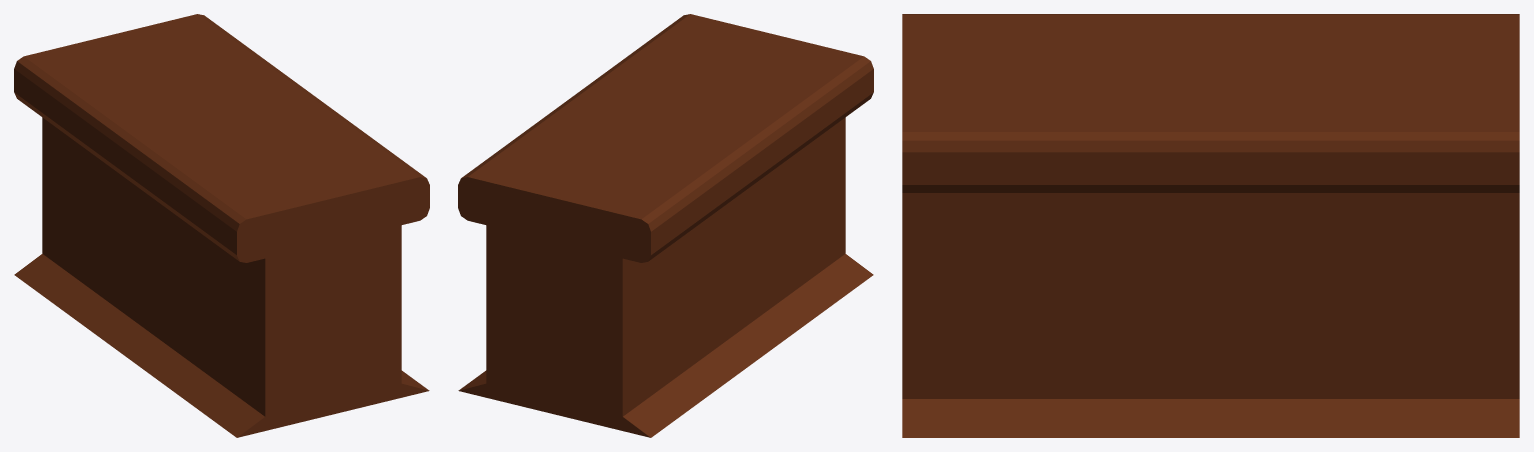
File: barr4.fbx
3 views of the same model, side by side, from view 1: azimuth 30°, elevation 25°; view 2: azimuth 150°, elevation 25°; view 3: azimuth 270°, elevation 25° (orthographic). The views are drawn at different scales.
Parts seen in each view (by area): view 1: Cube.010; view 2: Cube.010; view 3: Cube.010.
Boxes of the visible parts, x1,y1,x2,y2 form: Cube.010: (14,14,429,437); Cube.010: (458,14,873,437); Cube.010: (902,14,1519,437).
Size of the model in its own units: 200 by 214 by 400.
